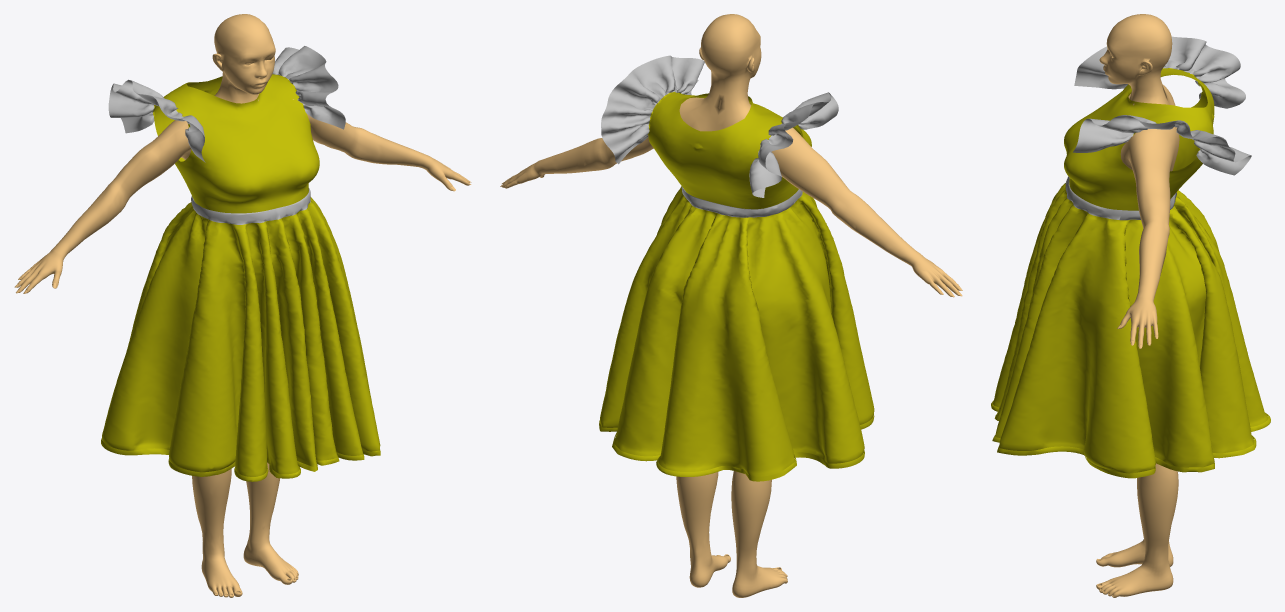
File: dress10.glb
The picture shows the model from 3 angles, left to right: view 1: azimuth 30°, elevation 25°; view 2: azimuth 150°, elevation 25°; view 3: azimuth 270°, elevation 25°; orthographic projection.
Parts seen in each view (by area): view 1: PinkDrees#14 (OBJ), Body.003; view 2: PinkDrees#14 (OBJ), Body.003; view 3: PinkDrees#14 (OBJ), Body.003.
Boxes of the visible parts, x1,y1,x2,y2 form: PinkDrees#14 (OBJ): (101, 46, 380, 481); Body.003: (17, 14, 470, 597); PinkDrees#14 (OBJ): (599, 55, 874, 481); Body.003: (501, 14, 960, 597); PinkDrees#14 (OBJ): (991, 36, 1270, 478); Body.003: (1096, 14, 1179, 597).
Size of the model in its own units: 1.58 by 1.85 by 0.835.
